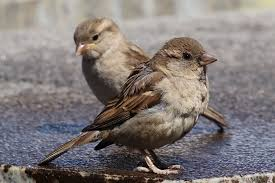hsparrow: (39, 37, 229, 179), (74, 13, 153, 106)
